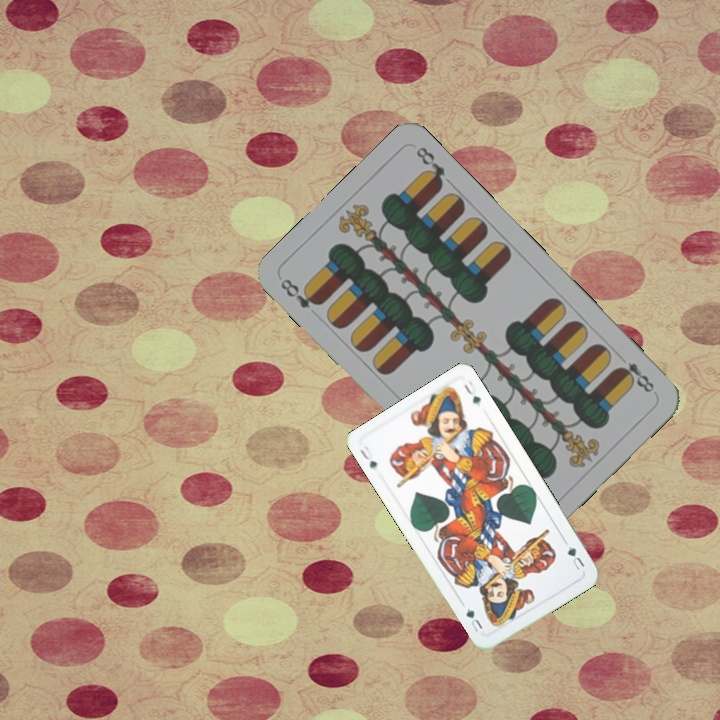E8: (276, 274, 324, 312), (612, 358, 657, 396)
GU: (560, 537, 587, 574), (356, 442, 380, 471)
